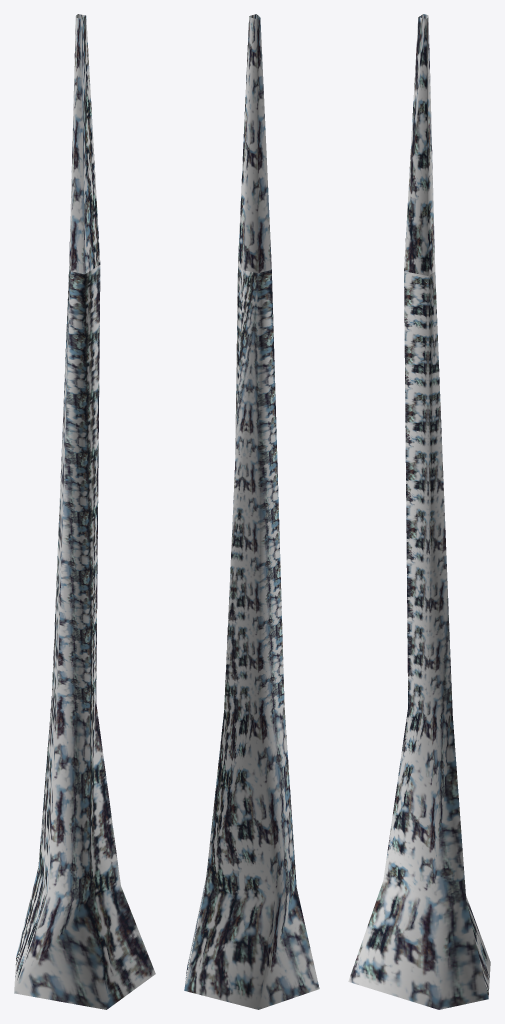
File: tree1201.obj
3 views of the same model, side by side, from view 1: azimuth 90°, elevation 25°; view 2: azimuth 150°, elevation 25°; view 3: azimuth 270°, elevation 25° (orthographic).
Parts seen in each view (by area): view 1: tree1201; view 2: tree1201; view 3: tree1201.
Part boxes in pixels (x1=…): tree1201: x1=14, y1=14, x2=155, y2=1009; tree1201: x1=184, y1=14, x2=319, y2=1009; tree1201: x1=348, y1=14, x2=490, y2=1009.
Bounding box in the file's own units: 26.43 × 219 × 28.98.
